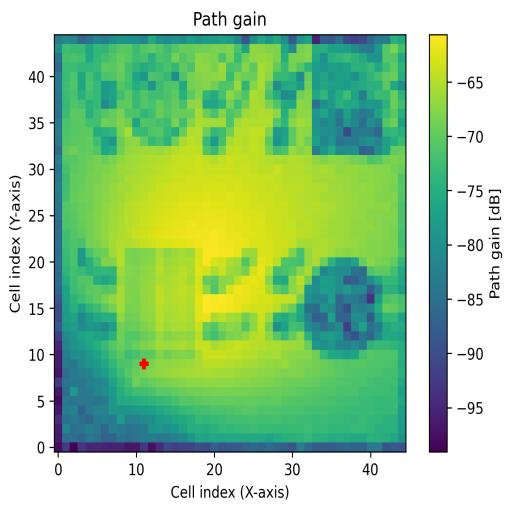Concrete: (312, 45, 389, 155)
Glass: (126, 50, 196, 146)
Metal: (304, 257, 382, 361)
Wood: (125, 247, 194, 360)
